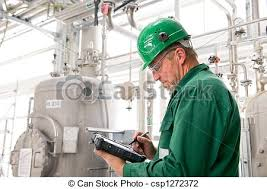Person_wearing_helmet: (134, 13, 194, 73)
